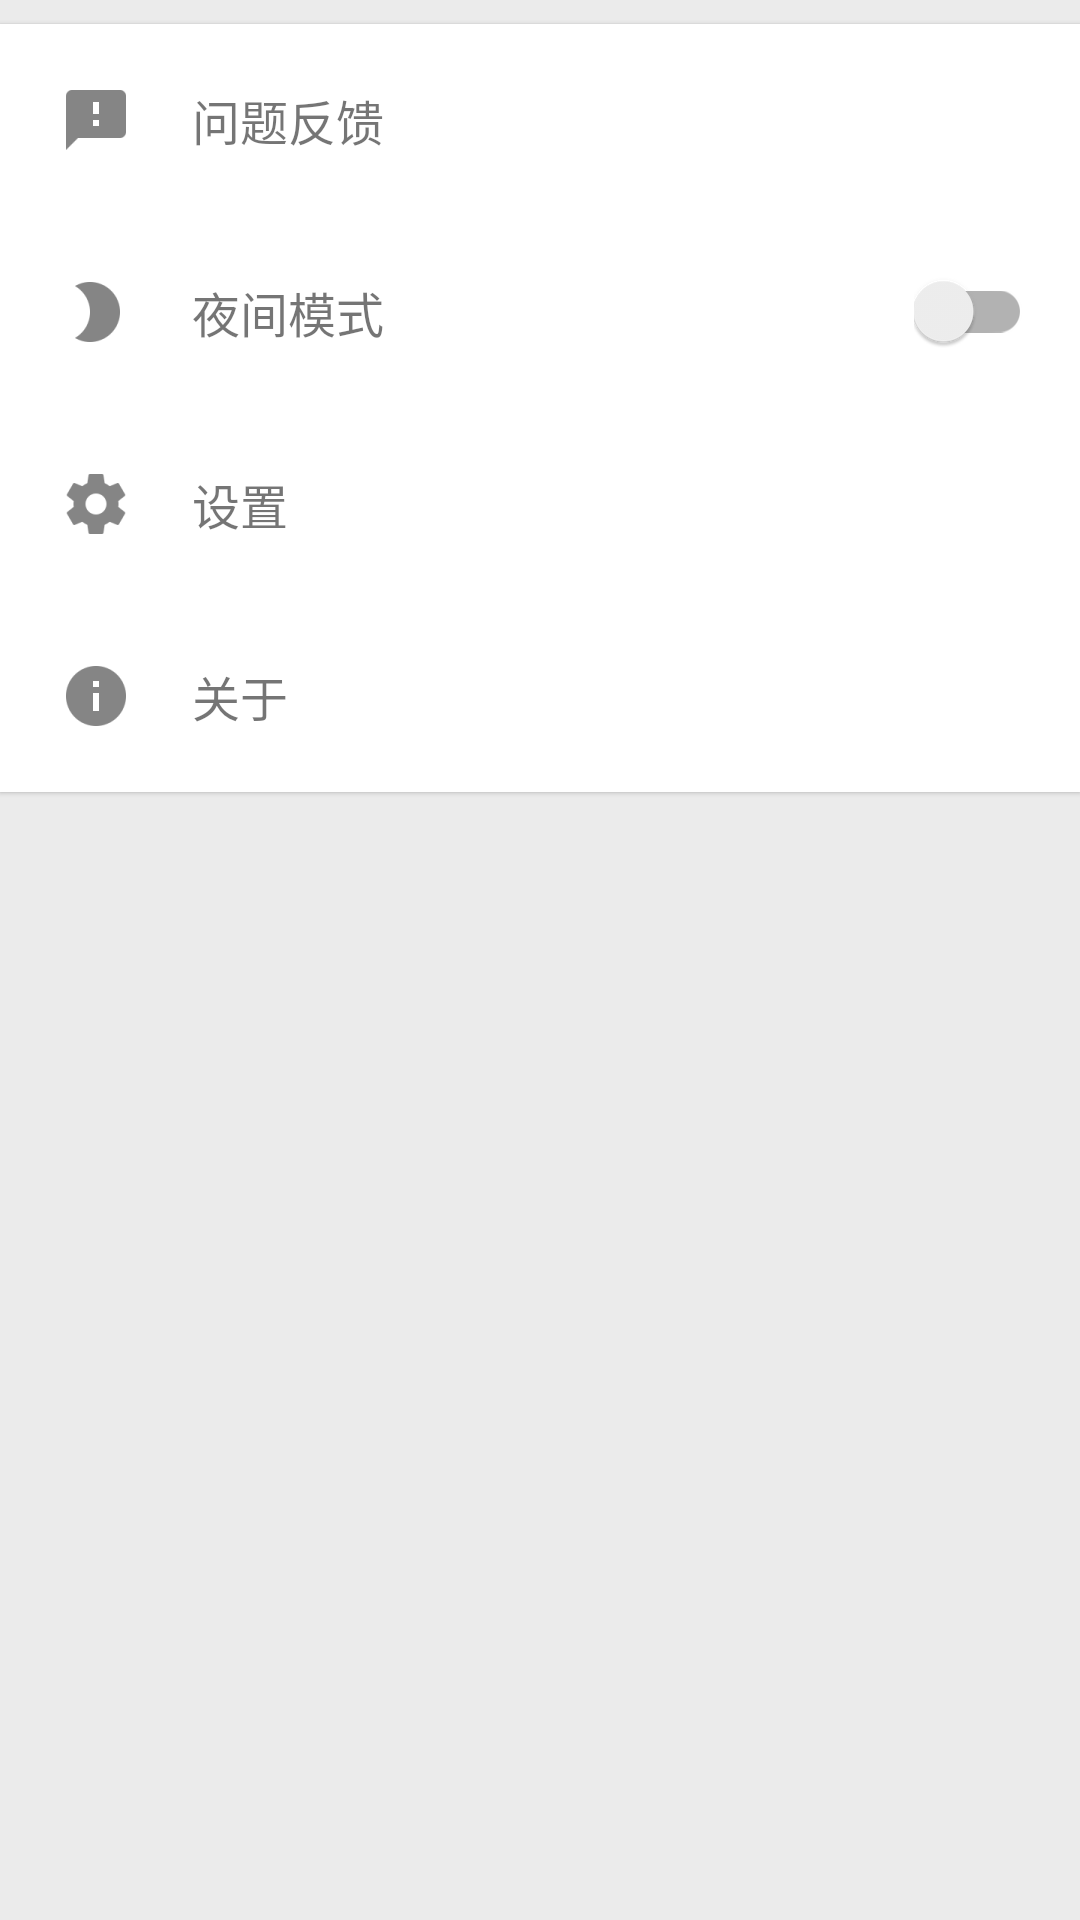

Icons on this 1080px×1920px Android screen, each with its box as (x1, y1, x2, y2):
brightness: (75, 282, 120, 342)
feedback: (66, 90, 126, 150)
info: (66, 666, 126, 726)
settings: (67, 474, 125, 534)
